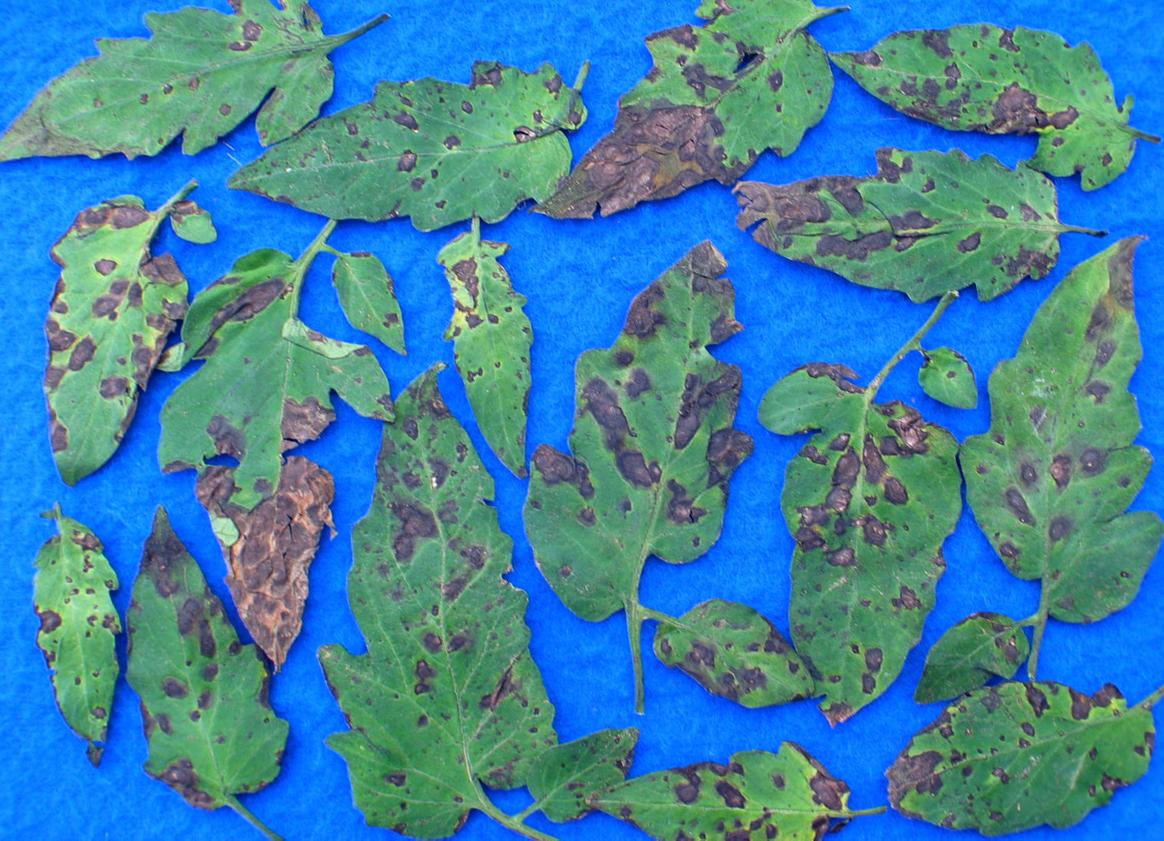Tomato Early blight leaf: (330, 332, 575, 841), (530, 246, 750, 628), (972, 229, 1164, 633), (760, 372, 953, 740), (526, 0, 836, 223), (0, 0, 348, 176), (123, 509, 290, 833), (720, 150, 1063, 305), (245, 83, 596, 226), (835, 22, 1143, 180), (885, 662, 1160, 832), (46, 170, 188, 493), (28, 505, 139, 806), (585, 748, 885, 841), (430, 223, 536, 480), (312, 235, 418, 370), (922, 606, 1028, 702)
